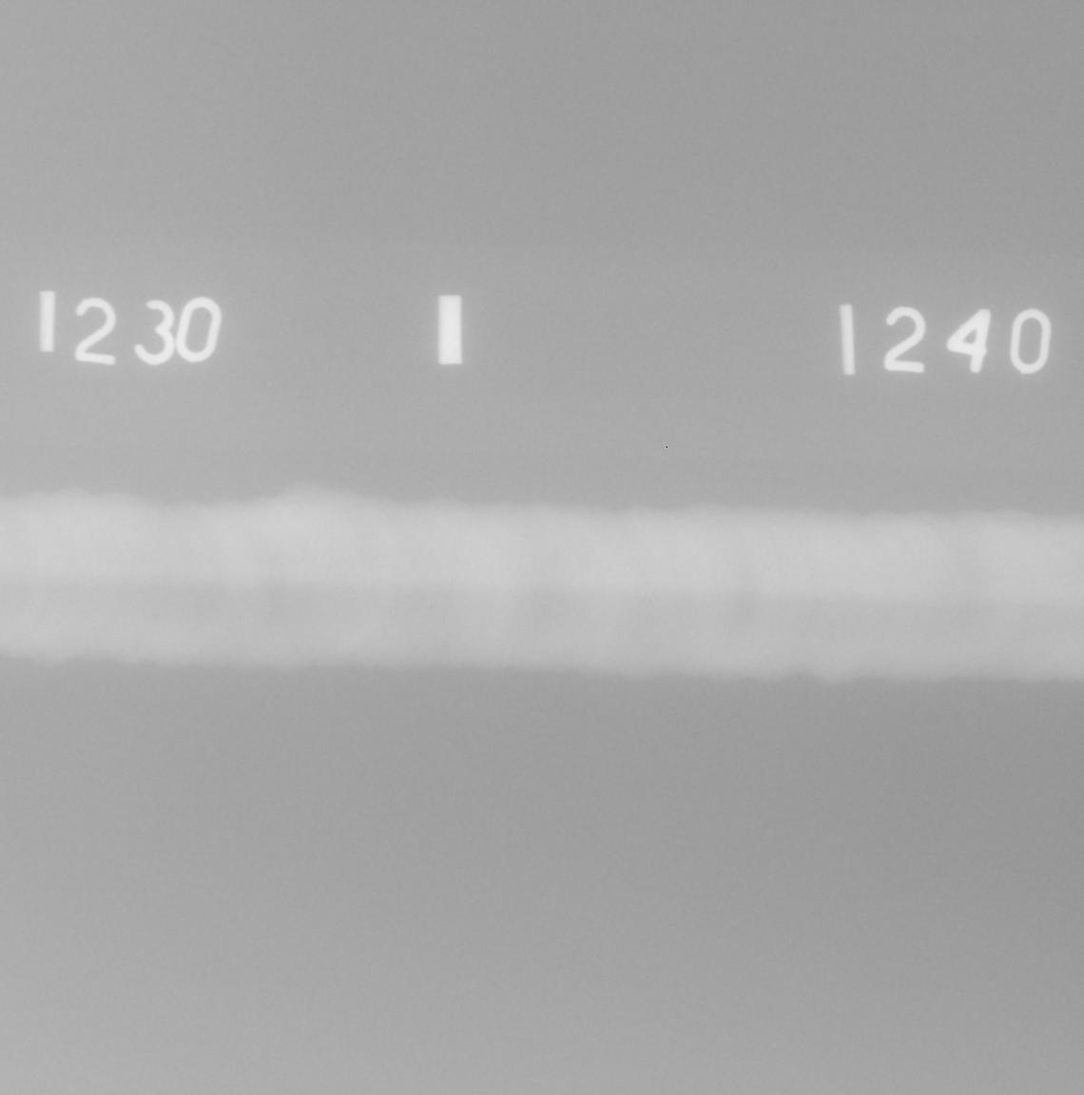Pore/Porosity: (428, 603, 436, 609), (150, 614, 158, 620), (163, 610, 168, 616)
